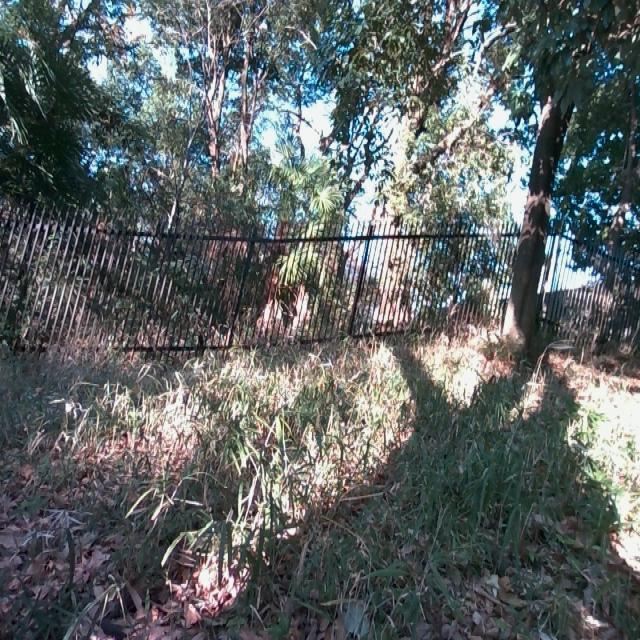artifact: (0, 186, 638, 366)
tree: (490, 0, 640, 354), (369, 0, 514, 319), (190, 0, 278, 195)
